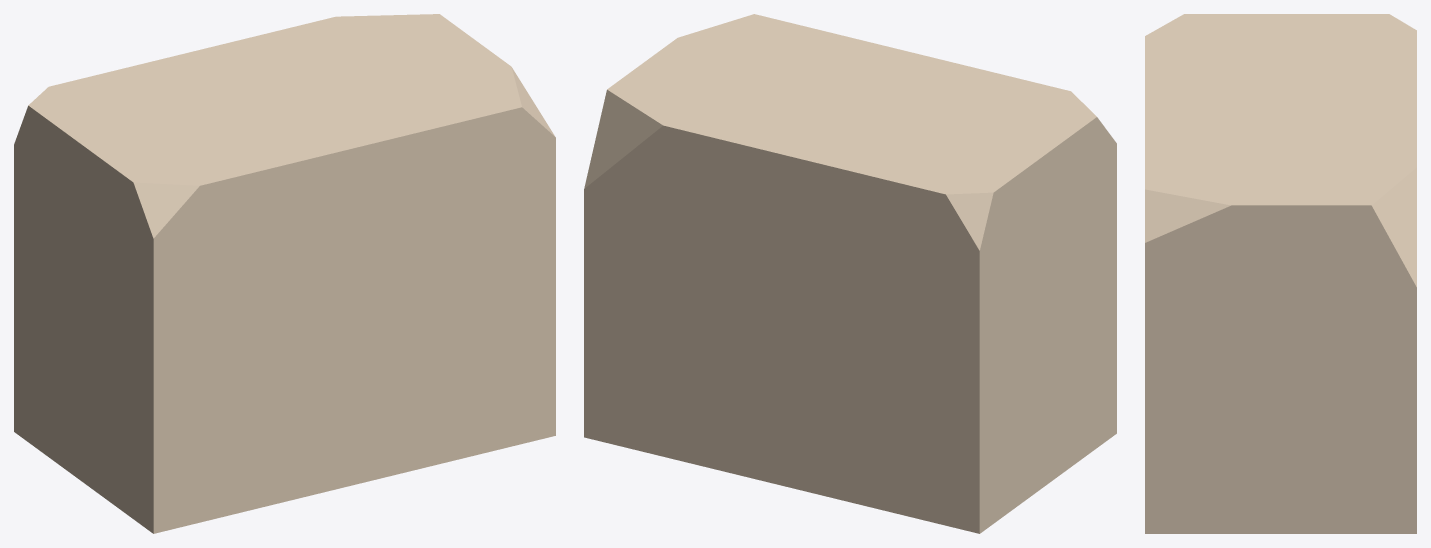
3 views of the same model, side by side, from view 1: azimuth 30°, elevation 25°; view 2: azimuth 150°, elevation 25°; view 3: azimuth 270°, elevation 25° (orthographic). The views are drawn at different scales.
Parts seen in each view (by area): view 1: object4; view 2: object4; view 3: object4.
Boxes of the visible parts, <box> form: object4: <box>14,14,555,533</box>; object4: <box>584,14,1116,533</box>; object4: <box>1145,14,1416,533</box>.
Bounding box in the file's own units: 0.25 × 0.2 × 0.15.
